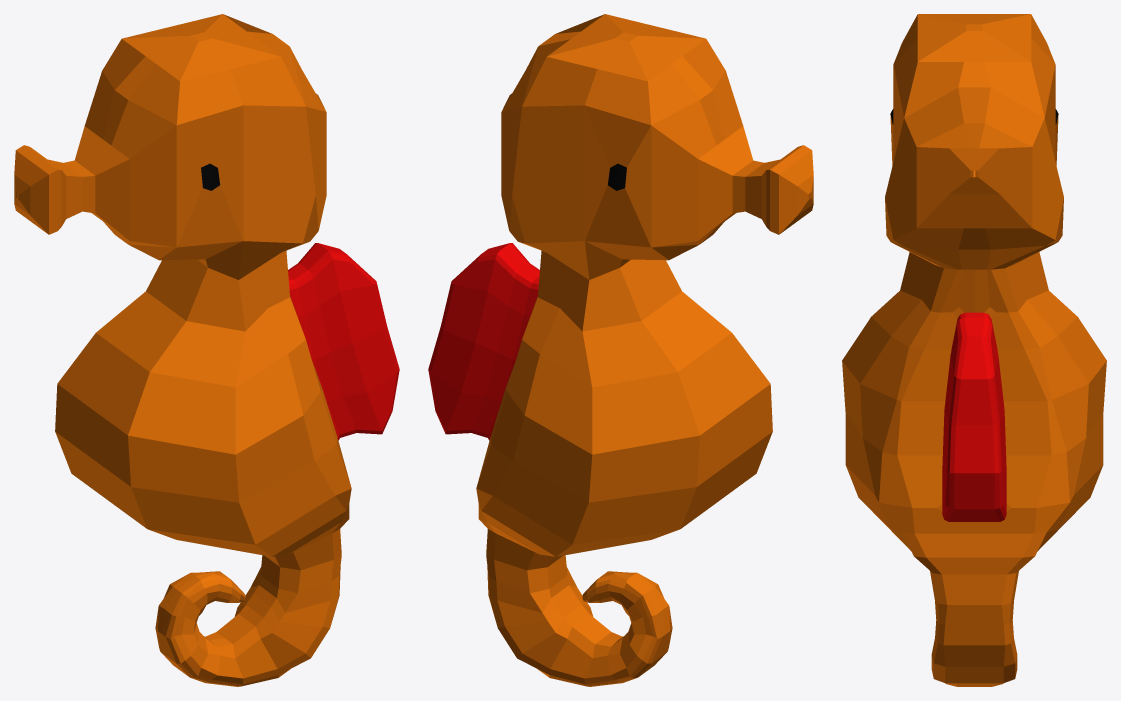
The model's file is CaballitoDeMar.fbx.
The picture shows the model from 3 angles, left to right: view 1: azimuth 30°, elevation 25°; view 2: azimuth 150°, elevation 25°; view 3: azimuth 270°, elevation 25°; orthographic projection. The views are drawn at different scales.
Visible parts, largest first — view 1: SeaHorse; view 2: SeaHorse; view 3: SeaHorse.
Part boxes in pixels (x1,y1,x2,y2): SeaHorse: [14, 14, 399, 686]; SeaHorse: [428, 14, 813, 686]; SeaHorse: [842, 14, 1106, 686].
Bounding box in the file's own units: 464 × 780 × 296.
